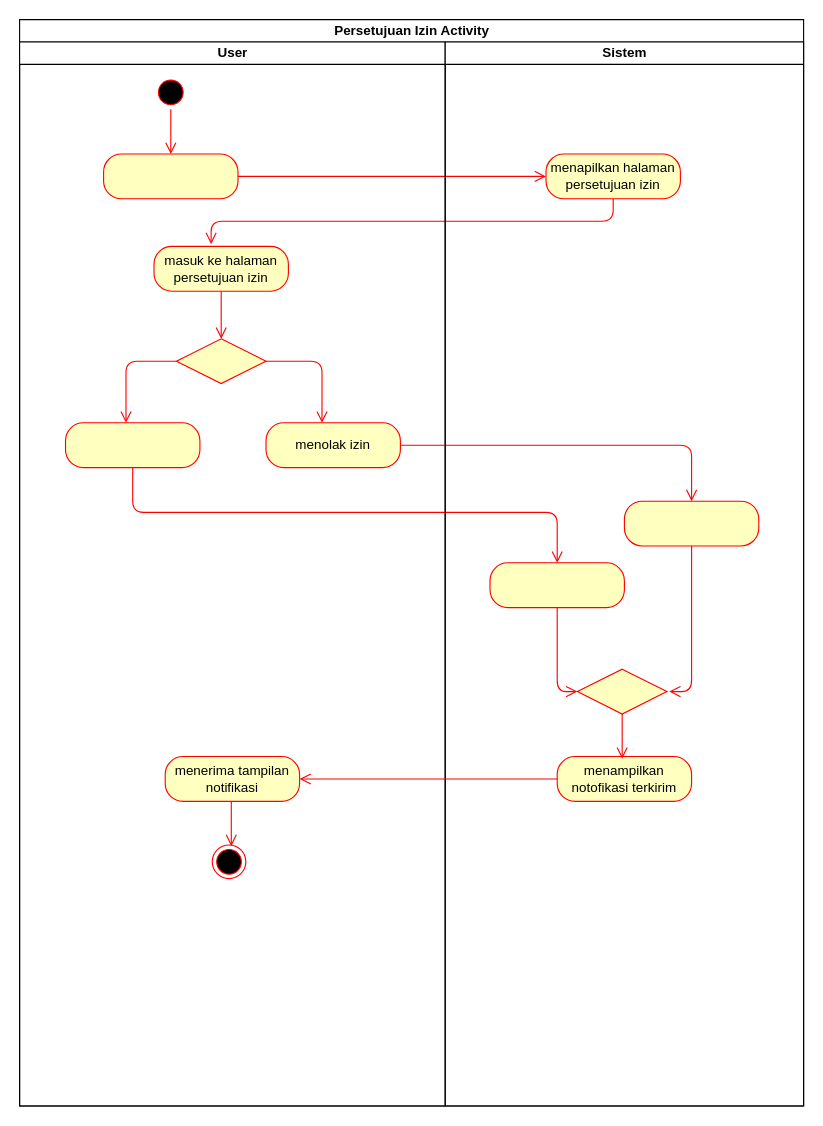
Image size: 823x1126. Some labels were removed from this diagram. The box of each missing label's shape, as (x1, y1, x2, y2) in pixels:
memilih fitur persetujuan izin di dashboard: (102, 153, 238, 199)
mengirim email ke anggota satu divisi: (489, 562, 624, 608)
mengirim email penolakan: (623, 500, 759, 546)
menyetujui izin: (64, 422, 200, 468)
